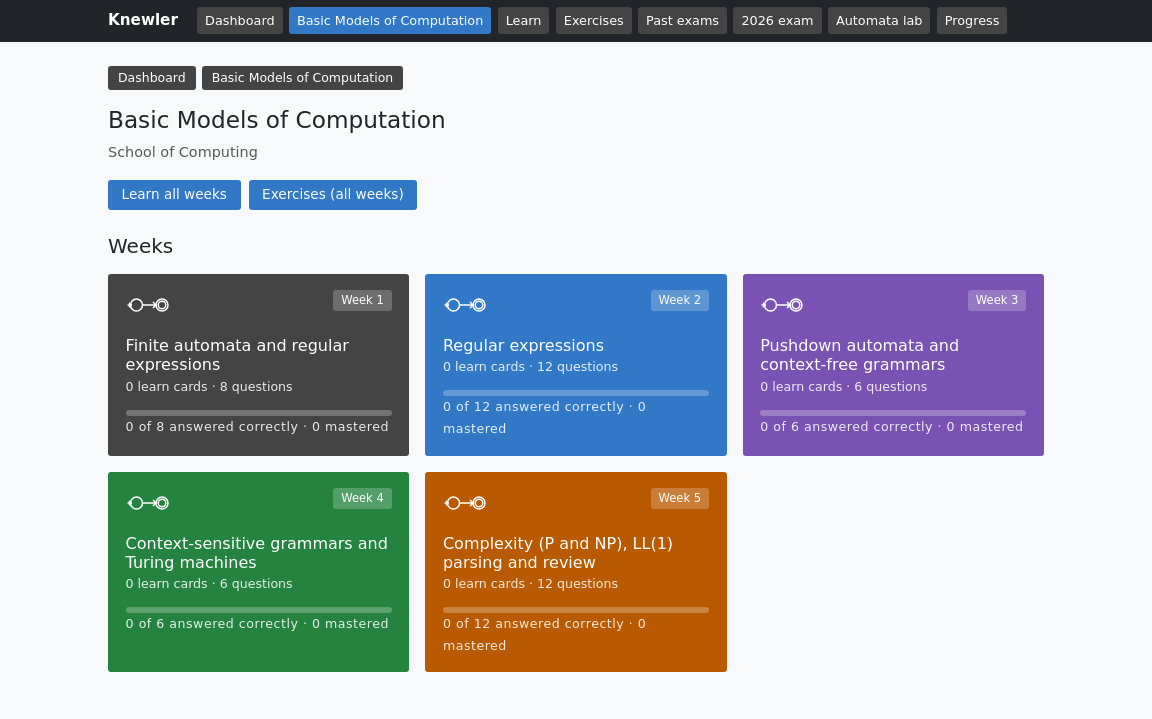
Test case: Past exams (translated and solved) › is in the BMC top bar and starts with the 2026 exam, written down from memory
This screenshot has width=1152, height=719.
Click the link "Past exams".
click(683, 21)  # box [638, 7, 727, 34]
(page scrolled)
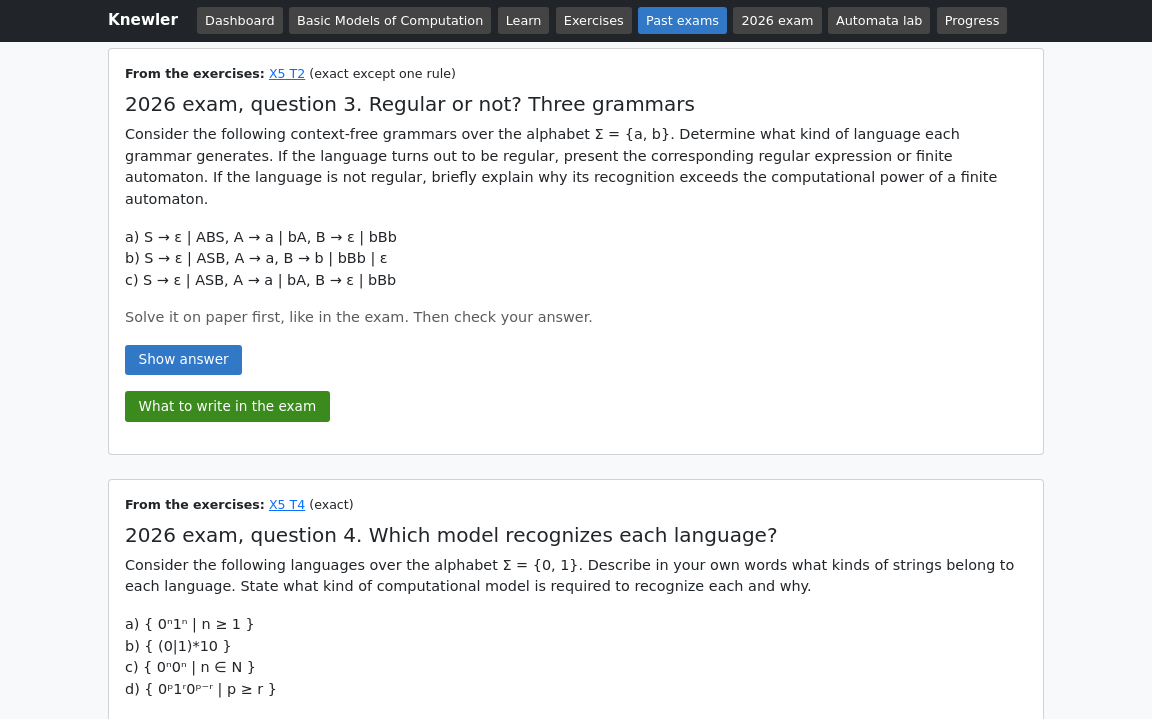
Now the text "B → b | bBb | ε" is shown, box [125, 229, 397, 288]
Click the button "Show answer".
click(184, 360)  # box [125, 345, 242, 376]
(page scrolled)
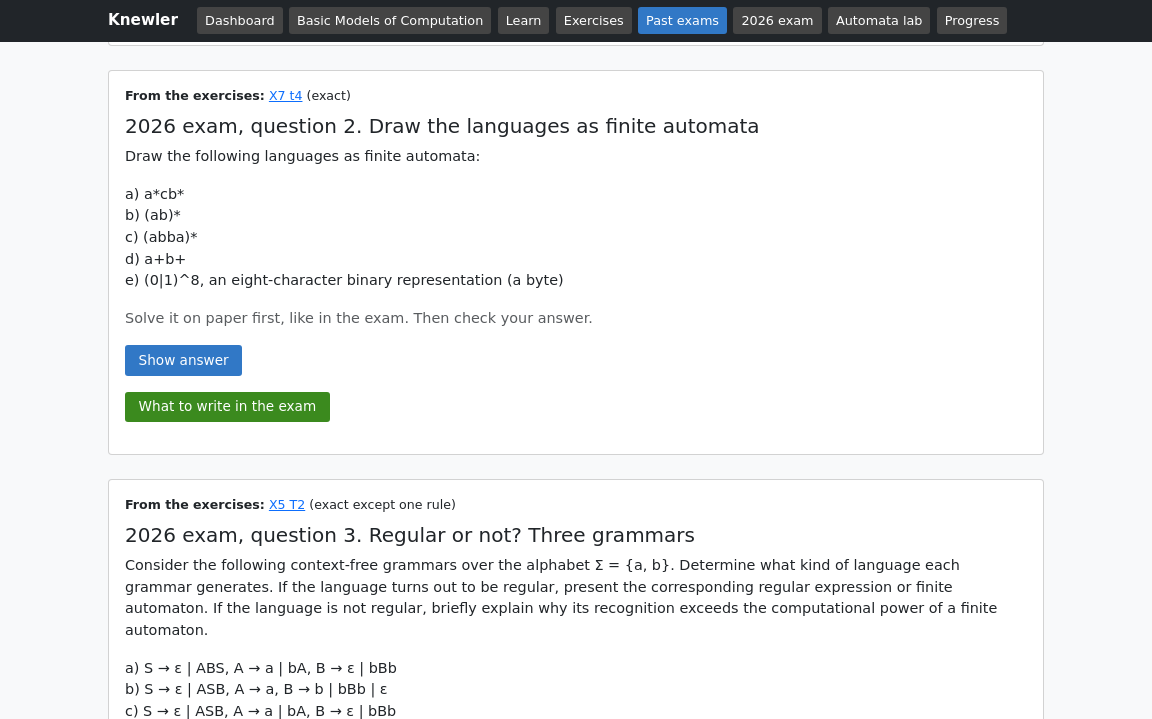
Click the button "Show answer".
click(184, 361)  # box [125, 345, 242, 376]
(page scrolled)
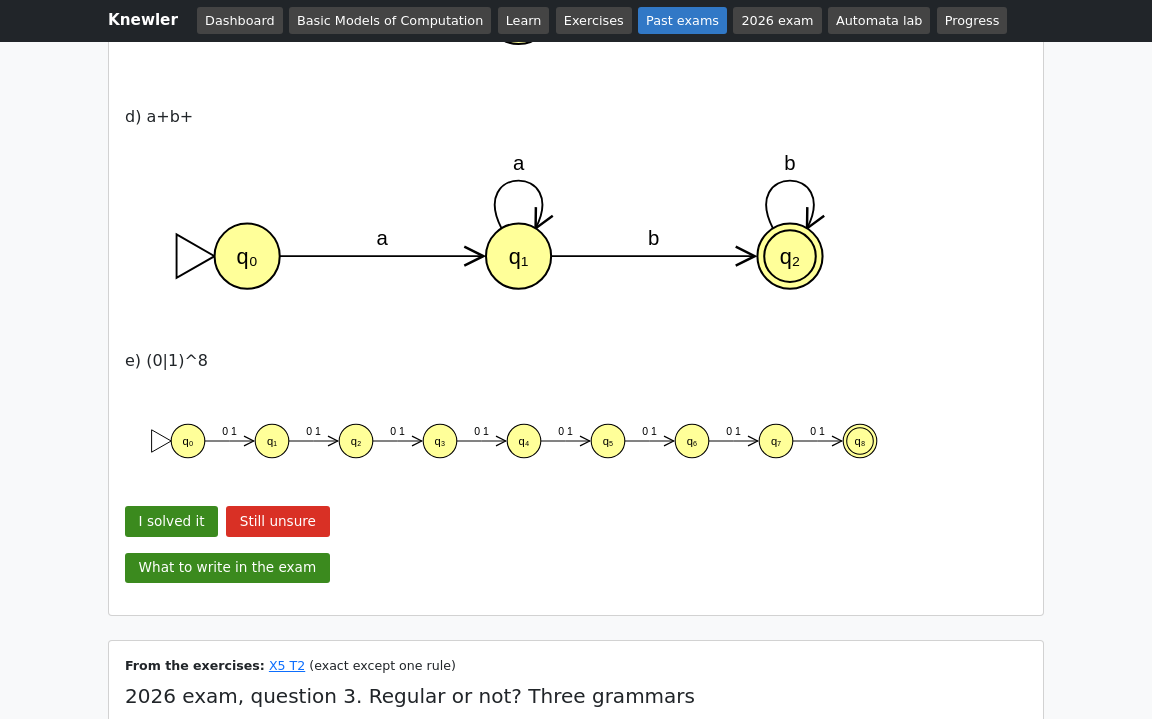
Now the heading "e) (0|1)^8" is shown, box [125, 351, 208, 370]
